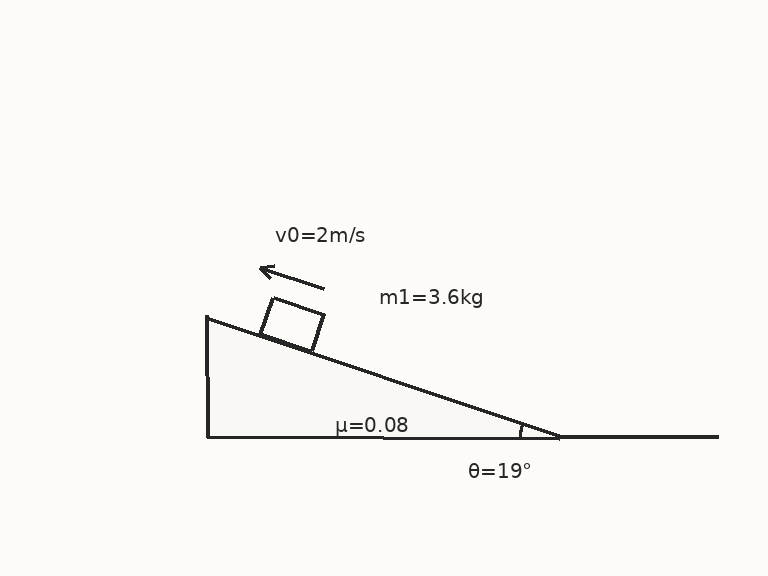block: (258, 295, 325, 353)
ramp: (204, 313, 562, 439)
